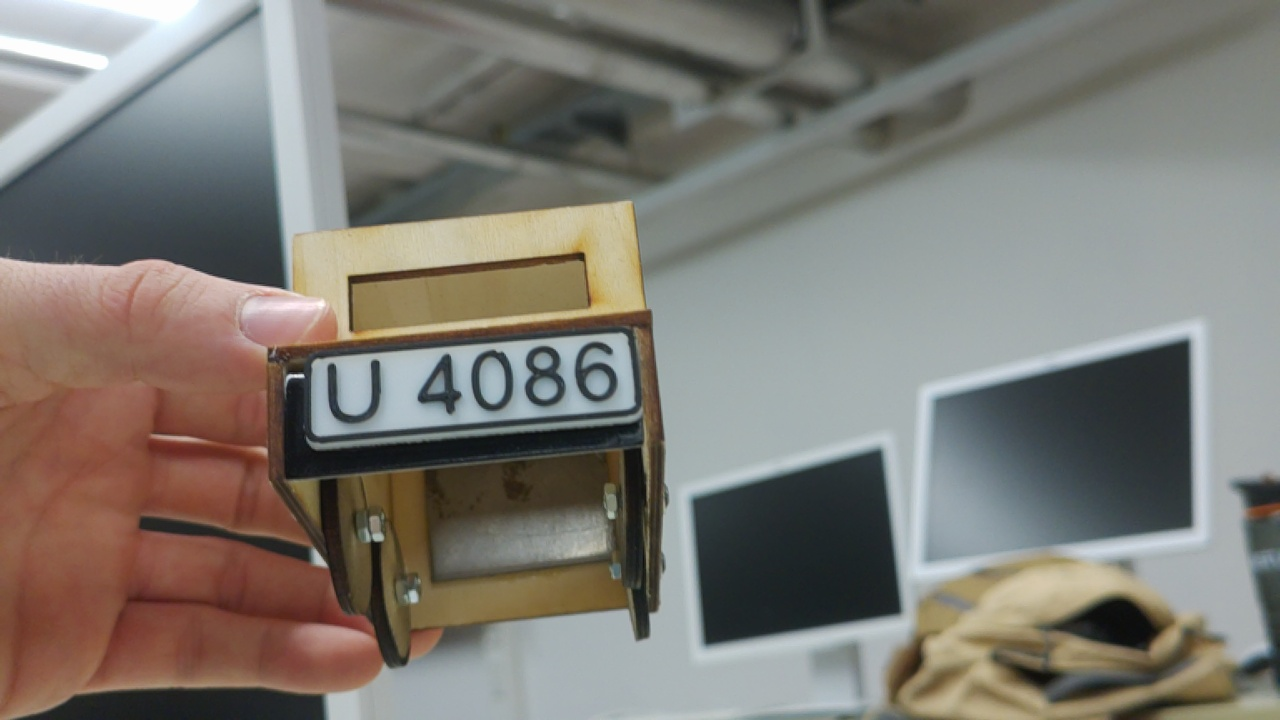license_plate: (282, 316, 650, 465)
